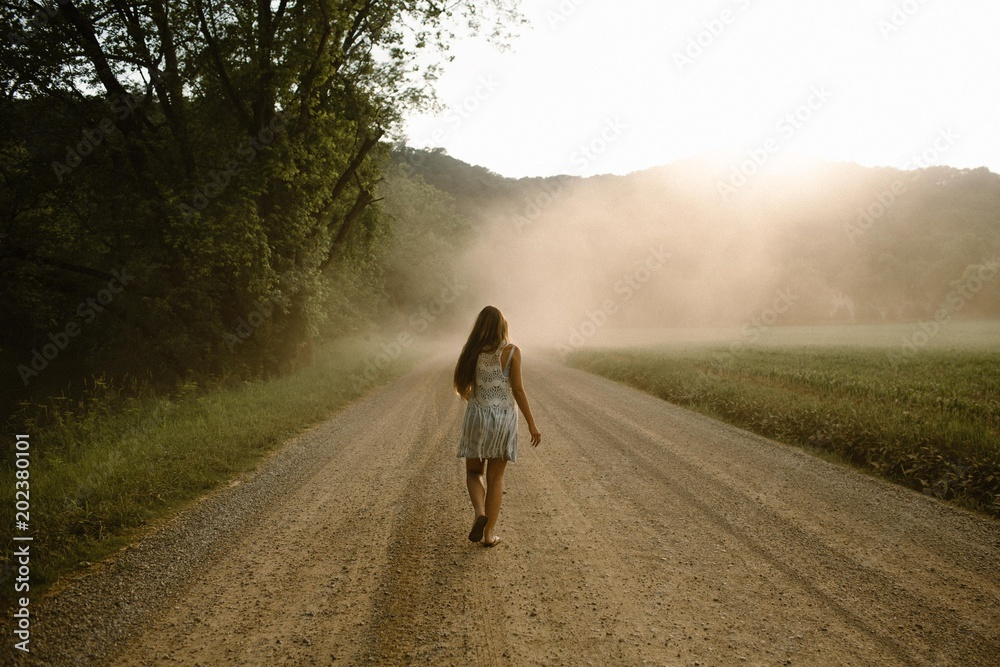Person: (446, 300, 545, 547)
